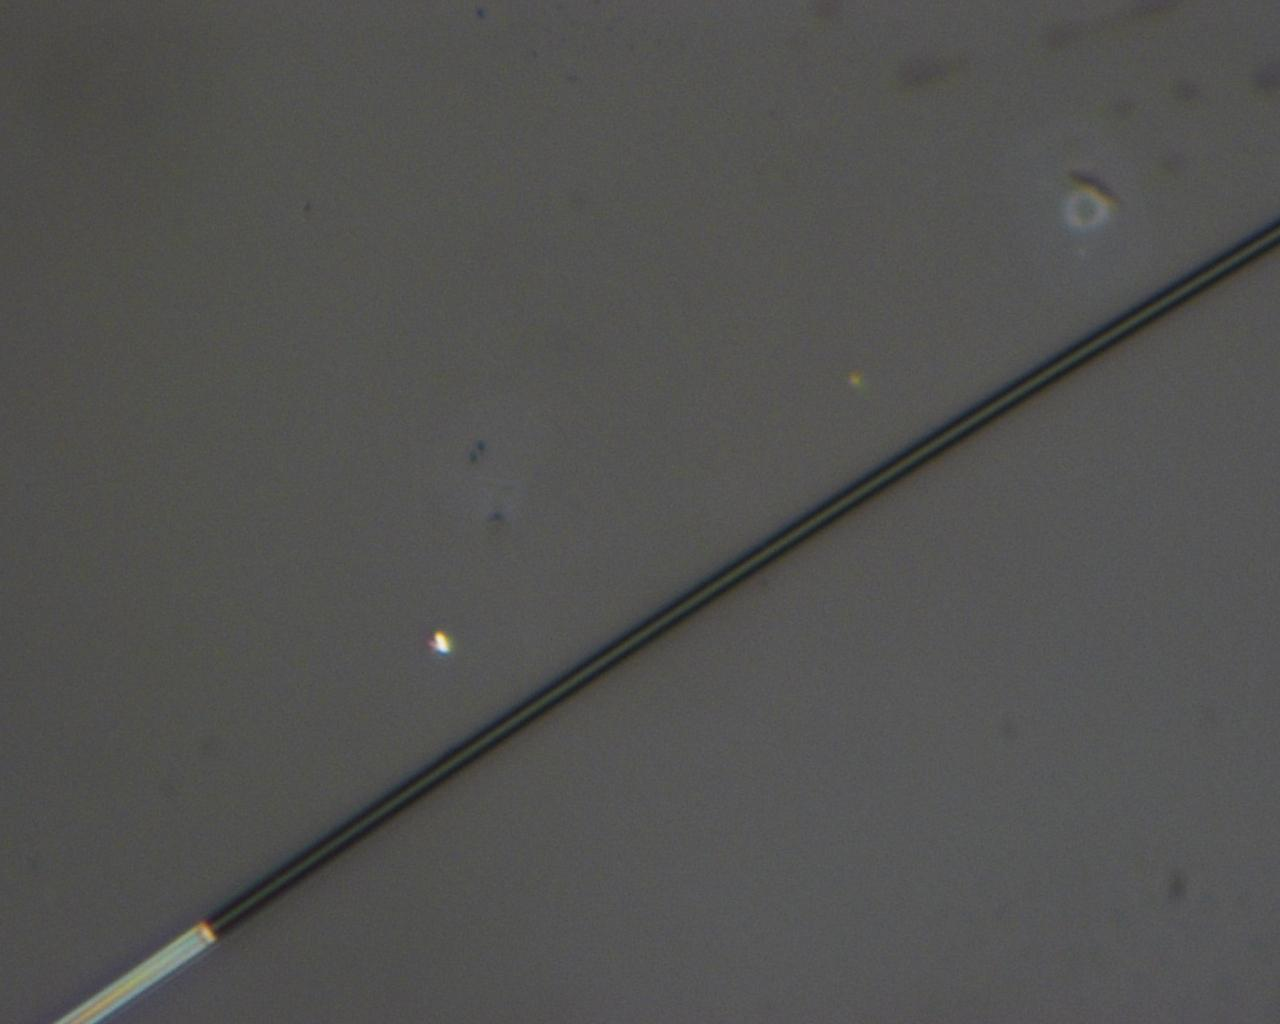fiber: (51, 214, 1280, 1024)
